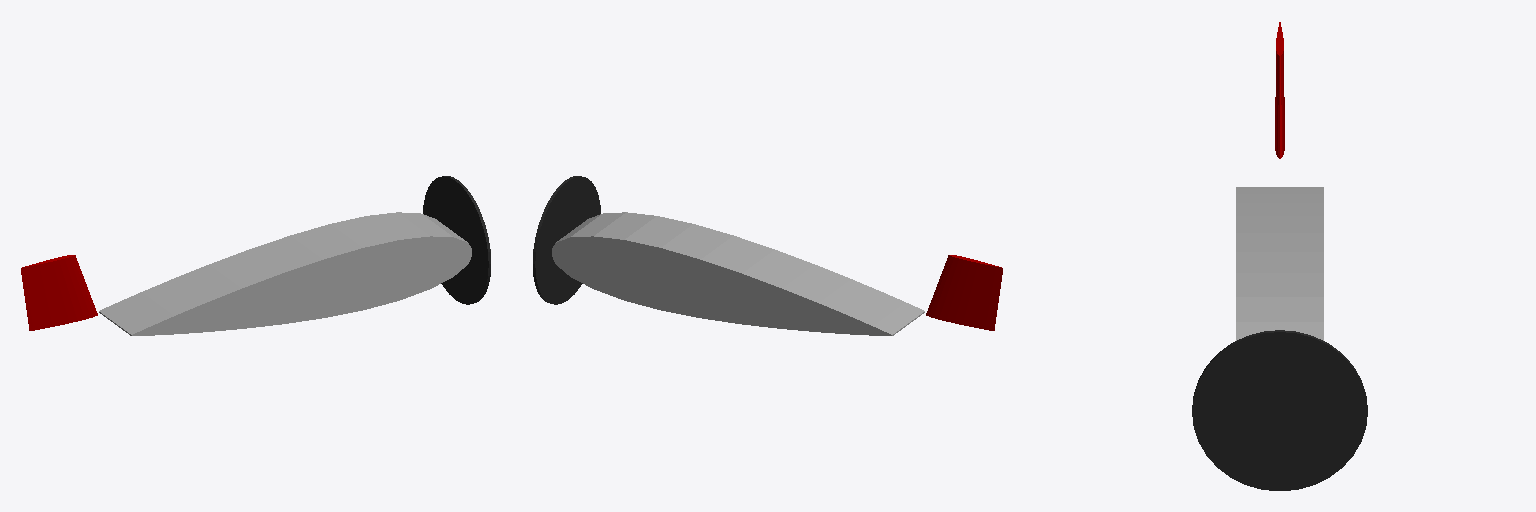
The robot description file, URDF, robot "drone_param":
<?xml version='1.0' encoding='utf-8'?>
<robot name="drone_param">
  <material name="grey">
    <color rgba="0.7 0.7 0.7 1" />
    </material>
  <material name="red">
    <color rgba="0.7 0 0 1" />
    </material>
  <material name="black">
    <color rgba="0.2 0.2 0.2 1" />
    </material>
  <link name="root_link">
    <inertial>
      <origin xyz="0 0 0" rpy="0 0 0" />
      <mass value="0" />
      <inertia ixx="0" ixy="0" ixz="0" iyy="0" iyz="0" izz="0" />
      </inertial>
    </link>
  <link name="fuselage">
    <inertial>
      <origin xyz="-0.275 0 -0.04" rpy="0 0 0" />
      <mass value="0.412996" />
      <inertia ixx="0.00766058" ixy="0" ixz="0" iyy="0.00764042" iyz="0" izz="0.000433157" />
      </inertial>
    <collision name="fuselage_collision_0">
      <origin xyz="-0.3 0 0.00245565348607" rpy="-1.5898372930676048 6.123233995736766e-17 -1.5707963267948968" />
      <geometry>
        <box size="0.025 0.0261920094864 0.15" />
        </geometry>
      </collision>
    <visual name="fuselage_visual_0">
      <origin xyz="0 0 0" rpy="0 0 0" />
      <geometry>
        <mesh filename="package://meshes/fuselage_only.stl" scale="0.000800122 0.001 0.001" />
        </geometry>
      <material name="grey" />
      </visual>
    </link>
  <joint name="fixed_joint_base_fuselage" type="fixed">
    <parent link="root_link" />
    <child link="fuselage" />
    <origin xyz="0 0 0" rpy="3.141592653589793 0 0" />
    </joint>
  <joint name="fixed_joint_aero_frame_fuselage" type="fixed">
    <parent link="fuselage" />
    <child link="aero_frame_fuselage" />
    <origin xyz="-0.275 0 -0.03" rpy="0 3.141592653589793 0" />
    </joint>
  <link name="aero_frame_fuselage">
    <inertial>
      <origin xyz="0 0 0" rpy="0 0 0" />
      <mass value="0" />
      <inertia ixx="0" ixy="0" ixz="0" iyy="0" iyz="0" izz="0" />
      </inertial>
    </link>
  <joint name="fixed_joint_prop_frame_fuselage_0" type="fixed">
    <parent link="fuselage" />
    <child link="prop_frame_fuselage_0" />
    <origin xyz="0 0 0" rpy="3.141592653589793 -1.5707963267948966 0" />
    </joint>
  <link name="prop_frame_fuselage_0">
    <inertial>
      <origin xyz="0 0 0" rpy="0 0 0" />
      <mass value="0.0314159" />
      <inertia ixx="6.28711e-05" ixy="0" ixz="0" iyy="6.28711e-05" iyz="0" izz="0.000125664" />
      </inertial>
    <visual name="prop_frame_fuselage_0_visual_0">
      <origin xyz="0 0 0" rpy="0 0 0" />
      <geometry>
        <cylinder radius="0.1" length="0.005" />
        </geometry>
      <material name="black" />
      </visual>
    <collision name="prop_frame_collision">
      <origin xyz="0 0 0" rpy="0 0 0" />
      <geometry>
        <box size="0.2 0.2 0.02" />
        </geometry>
      </collision>
    </link>
  <joint name="fixed_joint_right_wing" type="fixed">
    <parent link="fuselage" />
    <child link="fuselage_right_0" />
    <origin xyz="-0.275 0.05 -0.03" rpy="0 0 3.141592653589793" />
    </joint>
  <link name="fuselage_right_0">
    <inertial>
      <origin xyz="0 0 0" rpy="0 0 0" />
      <mass value="0.1" />
      <inertia ixx="3.22642e-06" ixy="0" ixz="0" iyy="3.22642e-06" iyz="0" izz="3.22642e-06" />
      </inertial>
    </link>
  <link name="fuselage_right_1">
    <inertial>
      <origin xyz="0 0 0" rpy="0 0 0" />
      <mass value="0.1" />
      <inertia ixx="3.22642e-06" ixy="0" ixz="0" iyy="3.22642e-06" iyz="0" izz="3.22642e-06" />
      </inertial>
    </link>
  <joint name="joint_0_sweep_right_wing" type="revolute">
    <parent link="fuselage_right_0" />
    <child link="fuselage_right_1" />
    <origin xyz="0 0 0" rpy="0 0 0" />
    <axis xyz="0 0 1" />
    <limit lower="-0.35" upper="0.35" effort="2.5" velocity="3.665191429" />
    <dynamics damping="0.2" friction="0.05" />
    </joint>
  <joint name="joint_1_twist_right_wing" type="revolute">
    <parent link="fuselage_right_1" />
    <child link="right_wing" />
    <origin xyz="0 -0.05 0" rpy="0 0 0" />
    <axis xyz="0 1 0" />
    <limit lower="-0.35" upper="0.35" effort="1.5" velocity="3.665191429" />
    <dynamics damping="0.2" friction="0.05" />
    </joint>
  <link name="right_wing">
    <inertial>
      <origin xyz="0 0 0" rpy="0 0 0" />
      <mass value="0" />
      <inertia ixx="0" ixy="0" ixz="0" iyy="0" iyz="0" izz="0" />
      </inertial>
    <visual name="right_wing_visual">
      <origin xyz="0 0 0" rpy="0 0 0" />
      <geometry>
        <mesh filename="package://meshes/wing0009.stl" scale="0.2 0.525031 0.2" />
        </geometry>
      <material name="red" />
      </visual>
    </link>
  <joint name="fixed_joint_right_wing_prop" type="fixed">
    <parent link="right_wing" />
    <child link="right_wing_prop" />
    <origin xyz="0 -0.025 0" rpy="0 0 0" />
    </joint>
  <link name="right_wing_prop">
    <inertial>
      <origin xyz="0.0255 0 0" rpy="0 0 0" />
      <mass value="0.00317931" />
      <inertia ixx="3.97414e-06" ixy="0" ixz="0" iyy="4.48703e-07" iyz="0" izz="3.62802e-06" />
      </inertial>
    <collision name="right_wing_prop_collision">
      <origin xyz="0.0375 0 -0.000421042" rpy="1.570796327 -1.558922022 0" />
      <geometry>
        <box size="0.017962225 0.15 0.05" />
        </geometry>
      </collision>
    </link>
  <joint name="fixed_joint_aero_frame_right_wing_prop" type="fixed">
    <parent link="right_wing_prop" />
    <child link="aero_frame_right_wing_prop" />
    <origin xyz="0.0255 0 0" rpy="3.141592654 0 0" />
    </joint>
  <link name="aero_frame_right_wing_prop">
    <inertial>
      <origin xyz="0 0 0" rpy="0 0 0" />
      <mass value="0" />
      <inertia ixx="0" ixy="0" ixz="0" iyy="0" iyz="0" izz="0" />
      </inertial>
    </link>
  <joint name="fixed_joint_right_wing_free" type="fixed">
    <parent link="right_wing" />
    <child link="right_wing_free" />
    <origin xyz="0 -0.275 0" rpy="0 0 0" />
    </joint>
  <link name="right_wing_free">
    <inertial>
      <origin xyz="0.0255 0 0" rpy="0 0 0" />
      <mass value="0.0286138" />
      <inertia ixx="0.000321906" ixy="0" ixz="0" iyy="0.000290177" iyz="0" izz="3.26522e-05" />
      </inertial>
    <collision name="right_wing_free_collision">
      <origin xyz="0.0375 0 -0.000421042" rpy="1.570796327 -1.558922022 0" />
      <geometry>
        <box size="0.017962225 0.15 0.45" />
        </geometry>
      </collision>
    </link>
  <joint name="fixed_joint_aero_frame_right_wing_free" type="fixed">
    <parent link="right_wing_free" />
    <child link="aero_frame_right_wing_free" />
    <origin xyz="0.0255 0 0" rpy="3.141592654 0 0" />
    </joint>
  <link name="aero_frame_right_wing_free">
    <inertial>
      <origin xyz="0 0 0" rpy="0 0 0" />
      <mass value="0" />
      <inertia ixx="0" ixy="0" ixz="0" iyy="0" iyz="0" izz="0" />
      </inertial>
    </link>
  <joint name="fixed_joint_left_wing" type="fixed">
    <parent link="fuselage" />
    <child link="fuselage_left_0" />
    <origin xyz="-0.275 -0.05 -0.03" rpy="-0 0 3.141592653589793" />
    </joint>
  <link name="fuselage_left_0">
    <inertial>
      <origin xyz="0 0 0" rpy="0 0 0" />
      <mass value="0.1" />
      <inertia ixx="3.22642e-06" ixy="0" ixz="0" iyy="3.22642e-06" iyz="0" izz="3.22642e-06" />
      </inertial>
    </link>
  <link name="fuselage_left_1">
    <inertial>
      <origin xyz="0 0 0" rpy="0 0 0" />
      <mass value="0.1" />
      <inertia ixx="3.22642e-06" ixy="0" ixz="0" iyy="3.22642e-06" iyz="0" izz="3.22642e-06" />
      </inertial>
    </link>
  <joint name="joint_0_sweep_left_wing" type="revolute">
    <parent link="fuselage_left_0" />
    <child link="fuselage_left_1" />
    <origin xyz="0 0 0" rpy="0 0 0" />
    <axis xyz="0 0 1" />
    <limit lower="-0.35" upper="0.35" effort="2.5" velocity="3.665191429" />
    <dynamics damping="0.2" friction="0.05" />
    </joint>
  <joint name="joint_1_twist_left_wing" type="revolute">
    <parent link="fuselage_left_1" />
    <child link="left_wing" />
    <origin xyz="0 0.05 0" rpy="0 0 0" />
    <axis xyz="0 1 0" />
    <limit lower="-0.35" upper="0.35" effort="1.5" velocity="3.665191429" />
    <dynamics damping="0.2" friction="0.05" />
    </joint>
  <link name="left_wing">
    <inertial>
      <origin xyz="0 0 0" rpy="0 0 0" />
      <mass value="0" />
      <inertia ixx="0" ixy="0" ixz="0" iyy="0" iyz="0" izz="0" />
      </inertial>
    <visual name="left_wing_visual">
      <origin xyz="0 0 0" rpy="3.141592654 0 0" />
      <geometry>
        <mesh filename="package://meshes/wing0009.stl" scale="0.2 0.525031 0.2" />
        </geometry>
      <material name="red" />
      </visual>
    </link>
  <joint name="fixed_joint_left_wing_prop" type="fixed">
    <parent link="left_wing" />
    <child link="left_wing_prop" />
    <origin xyz="0 0.025 0" rpy="0 0 0" />
    </joint>
  <link name="left_wing_prop">
    <inertial>
      <origin xyz="0.0255 0 0" rpy="0 0 0" />
      <mass value="0.00317931" />
      <inertia ixx="3.97414e-06" ixy="0" ixz="0" iyy="4.48703e-07" iyz="0" izz="3.62802e-06" />
      </inertial>
    <collision name="left_wing_prop_collision">
      <origin xyz="0.0375 0 -0.000421042" rpy="1.570796327 -1.558922022 0" />
      <geometry>
        <box size="0.017962225 0.15 0.05" />
        </geometry>
      </collision>
    </link>
  <joint name="fixed_joint_aero_frame_left_wing_prop" type="fixed">
    <parent link="left_wing_prop" />
    <child link="aero_frame_left_wing_prop" />
    <origin xyz="0.0255 0 0" rpy="3.141592654 0 0" />
    </joint>
  <link name="aero_frame_left_wing_prop">
    <inertial>
      <origin xyz="0 0 0" rpy="0 0 0" />
      <mass value="0" />
      <inertia ixx="0" ixy="0" ixz="0" iyy="0" iyz="0" izz="0" />
      </inertial>
    </link>
  <joint name="fixed_joint_left_wing_free" type="fixed">
    <parent link="left_wing" />
    <child link="left_wing_free" />
    <origin xyz="0 0.275 0" rpy="0 0 0" />
    </joint>
  <link name="left_wing_free">
    <inertial>
      <origin xyz="0.0255 0 0" rpy="0 0 0" />
      <mass value="0.0286138" />
      <inertia ixx="0.000321906" ixy="0" ixz="0" iyy="0.000290177" iyz="0" izz="3.26522e-05" />
      </inertial>
    <collision name="left_wing_free_collision">
      <origin xyz="0.0375 0 -0.000421042" rpy="1.570796327 -1.558922022 0" />
      <geometry>
        <box size="0.017962225 0.15 0.45" />
        </geometry>
      </collision>
    </link>
  <joint name="fixed_joint_aero_frame_left_wing_free" type="fixed">
    <parent link="left_wing_free" />
    <child link="aero_frame_left_wing_free" />
    <origin xyz="0.0255 0 0" rpy="3.141592654 0 0" />
    </joint>
  <link name="aero_frame_left_wing_free">
    <inertial>
      <origin xyz="0 0 0" rpy="0 0 0" />
      <mass value="0" />
      <inertia ixx="0" ixy="0" ixz="0" iyy="0" iyz="0" izz="0" />
      </inertial>
    </link>
  <joint name="elevator_pitch_joint" type="revolute">
    <parent link="fuselage" />
    <child link="elevator_hinge" />
    <origin xyz="-0.63 0 0" rpy="0 0 0" />
    <axis xyz="0 1 0" />
    <limit lower="-0.35" upper="0.35" effort="1.0" velocity="3.665191429" />
    <dynamics damping="0.2" friction="0.05" />
    </joint>
  <link name="elevator_hinge">
    <inertial>
      <origin xyz="0 0 0" rpy="0 0 0" />
      <mass value="0" />
      <inertia ixx="0" ixy="0" ixz="0" iyy="0" iyz="0" izz="0" />
      </inertial>
    <visual>
      <origin xyz="0 0 0" rpy="0 0 0" />
      <geometry>
        <mesh filename="package://meshes/elevator.stl" scale="0.0007 0.001029 0.00077777" />
        </geometry>
      <material name="grey" />
      </visual>
    </link>
  <joint name="fixed_joint_elevator_left" type="fixed">
    <parent link="elevator_hinge" />
    <child link="elevator_left" />
    <origin xyz="0 0.07 0" rpy="0 0 0" />
    </joint>
  <link name="elevator_left">
    <inertial>
      <origin xyz="0.0372 0 0" rpy="0 0 0" />
      <mass value="0.0166735" />
      <inertia ixx="2.83449e-05" ixy="0" ixz="0" iyy="1.64932e-05" iyz="0" izz="1.21581e-05" />
      </inertial>
    <collision>
      <origin xyz="-0.03 0 -0.0226291863" rpy="1.5763749568 -1.5318707859 3.1359944429" />
      <geometry>
        <box size="0.0135567616 0.12 0.14" />
        </geometry>
      </collision>
    </link>
  <joint name="fixed_joint_aero_frame_elevator_left" type="fixed">
    <parent link="elevator_left" />
    <child link="aero_frame_elevator_left" />
    <origin xyz="-0.0372 0 0" rpy="0 3.141592654 0" />
    </joint>
  <link name="aero_frame_elevator_left">
    <inertial>
      <origin xyz="0 0 0" rpy="0 0 0" />
      <mass value="0" />
      <inertia ixx="0" ixy="0" ixz="0" iyy="0" iyz="0" izz="0" />
      </inertial>
    </link>
  <joint name="fixed_joint_elevator_right" type="fixed">
    <parent link="elevator_hinge" />
    <child link="elevator_right" />
    <origin xyz="0 -0.07 0" rpy="0 0 0" />
    </joint>
  <link name="elevator_right">
    <inertial>
      <origin xyz="0.0372 0 0" rpy="0 0 0" />
      <mass value="0.0166735" />
      <inertia ixx="2.83449e-05" ixy="0" ixz="0" iyy="1.64932e-05" iyz="0" izz="1.21581e-05" />
      </inertial>
    <collision>
      <origin xyz="-0.03 0 -0.0226291863" rpy="1.5763749568 -1.5318707859 3.1359944429" />
      <geometry>
        <box size="0.0135567616 0.12 0.14" />
        </geometry>
      </collision>
    </link>
  <joint name="fixed_joint_aero_frame_elevator_right" type="fixed">
    <parent link="elevator_right" />
    <child link="aero_frame_elevator_right" />
    <origin xyz="-0.0372 0 0" rpy="0 3.141592654 0" />
    </joint>
  <link name="aero_frame_elevator_right">
    <inertial>
      <origin xyz="0 0 0" rpy="0 0 0" />
      <mass value="0" />
      <inertia ixx="0" ixy="0" ixz="0" iyy="0" iyz="0" izz="0" />
      </inertial>
    </link>
  <joint name="rudder_yaw_joint" type="revolute">
    <parent link="elevator_hinge" />
    <child link="rudder" />
    <origin xyz="0 0 0" rpy="0 0 0" />
    <axis xyz="0 0 1" />
    <limit lower="-0.35" upper="0.35" effort="1.0" velocity="3.665191429" />
    <dynamics damping="0.2" friction="0.05" />
    </joint>
  <link name="rudder">
    <inertial>
      <origin xyz="-0.031 0 -0.08" rpy="0 0 0" />
      <mass value="0.0105743" />
      <inertia ixx="1.29006e-05" ixy="0" ixz="0" iyy="7.71065e-06" iyz="0" izz="5.38431e-06" />
      </inertial>
    <collision name="rudder_collision_0">
      <origin xyz="-0.025 0 -0.104994470816" rpy="0.10626955814138643 0.008780081131392076 1.5717328981686811" />
      <geometry>
        <box size="0.0135567616 0.1 0.12" />
        </geometry>
      </collision>
    <visual name="rudder_visual_0">
      <origin xyz="0 0 0" rpy="0 0 0" />
      <geometry>
        <mesh filename="package://meshes/rudder.stl" scale="0.0008 0.000838061 0.000733616" />
        </geometry>
      <material name="red" />
      </visual>
    </link>
  <joint name="fixed_joint_aero_frame_rudder" type="fixed">
    <parent link="rudder" />
    <child link="aero_frame_rudder" />
    <origin xyz="-0.031 0 -0.08" rpy="0 3.141592653589793 0" />
    </joint>
  <link name="aero_frame_rudder">
    <inertial>
      <origin xyz="0 0 0" rpy="0 0 0" />
      <mass value="0" />
      <inertia ixx="0" ixy="0" ixz="0" iyy="0" iyz="0" izz="0" />
      </inertial>
    </link>
  </robot>

--- What the picture shows (computed from the rendered views, not written in the file) ---
The picture shows the robot from 3 angles, left to right: view 1: azimuth 30°, elevation 25°; view 2: azimuth 150°, elevation 25°; view 3: azimuth 270°, elevation 25°; orthographic projection.
Robot: drone_param — 25 links, 24 joints (6 revolute, 18 fixed); root link root_link; default pose: all joints at 0.
Visible links, largest first — view 1: fuselage, prop_frame_fuselage_0, rudder; view 2: fuselage, prop_frame_fuselage_0, rudder; view 3: prop_frame_fuselage_0, fuselage, rudder.
Link boxes in pixels (x1,y1,x2,y2): fuselage: (99,212,471,335); prop_frame_fuselage_0: (423,176,490,304); rudder: (21,255,97,330); fuselage: (552,212,924,335); prop_frame_fuselage_0: (533,176,600,304); rudder: (926,255,1002,330); prop_frame_fuselage_0: (1192,330,1367,490); fuselage: (1236,187,1323,340); rudder: (1275,22,1284,158).
Size in the robot's own frame: 0.7685 by 0.2 by 0.2321 metres.
Meshes: 4 distinct files referenced, 2 mesh visuals loaded (2 binary STL); not drawn: 3 (reference not matched to a file when rendering).